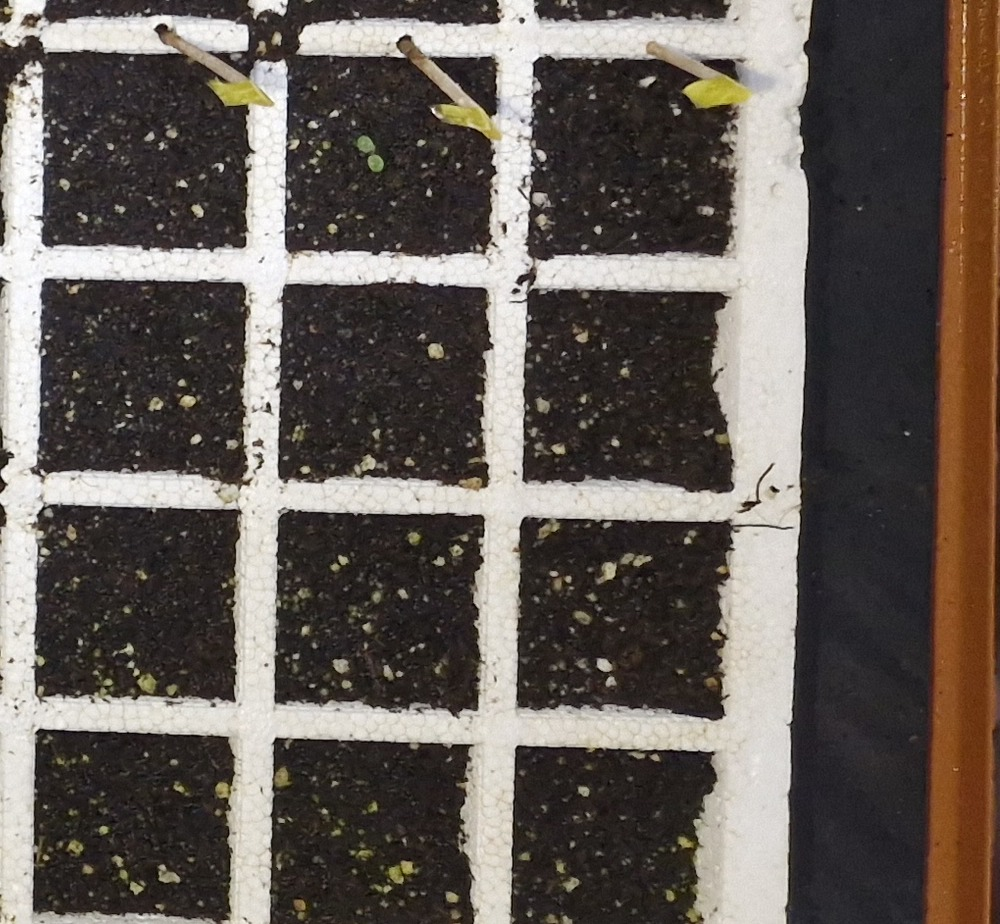Folha: (356, 136, 375, 153), (368, 154, 384, 172)
Germinacao: (357, 136, 385, 172)
